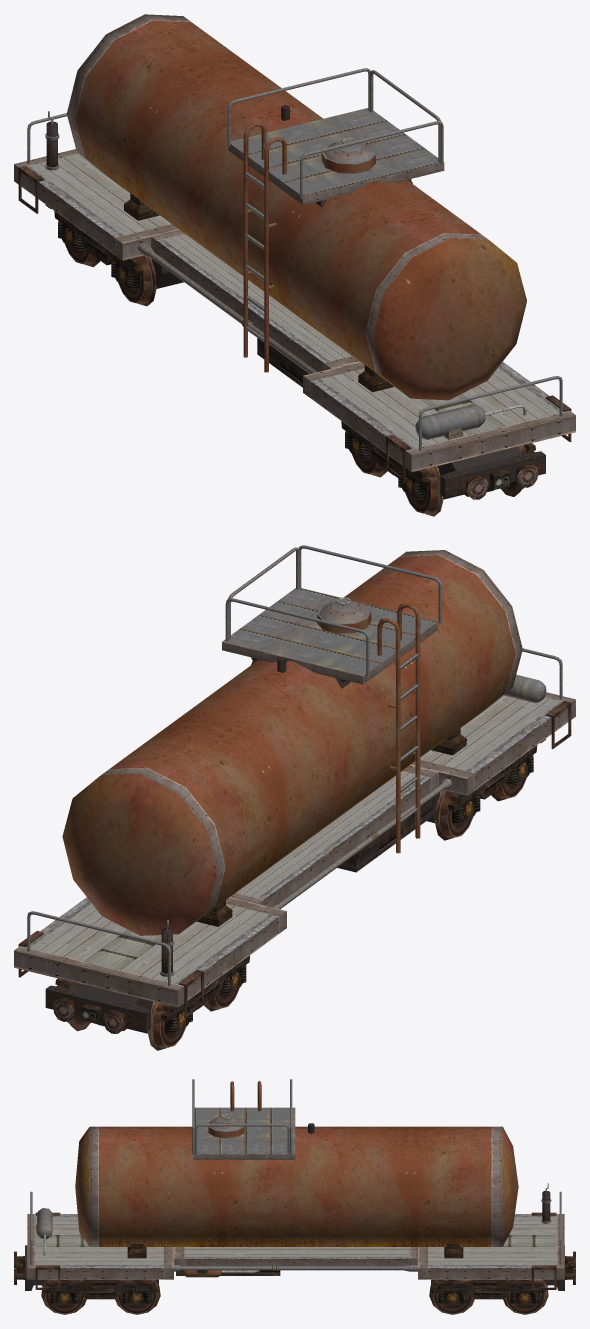
The model's file is Model_Trains_Carriage_Oil.fbx.
The picture shows the model from 3 angles, top to bottom: view 1: azimuth 30°, elevation 25°; view 2: azimuth 150°, elevation 25°; view 3: azimuth 270°, elevation 25°; orthographic projection. The views are drawn at different scales.
Visible parts, largest first — view 1: Train_Carriage_Oil_LOD0; view 2: Train_Carriage_Oil_LOD0; view 3: Train_Carriage_Oil_LOD0.
Part boxes in pixels (box(x1,y1,x2,y2)): Train_Carriage_Oil_LOD0: box(14, 14, 575, 516); Train_Carriage_Oil_LOD0: box(14, 545, 575, 1050); Train_Carriage_Oil_LOD0: box(14, 1079, 575, 1314).
Size of what is drawn, in the model's own units: 273 by 466 by 1180.
